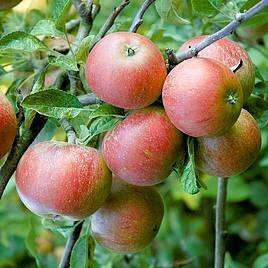apple: (14, 147, 110, 225), (163, 52, 248, 136), (82, 31, 168, 113), (172, 35, 256, 115), (102, 112, 182, 187), (89, 183, 165, 253), (192, 107, 263, 179)
